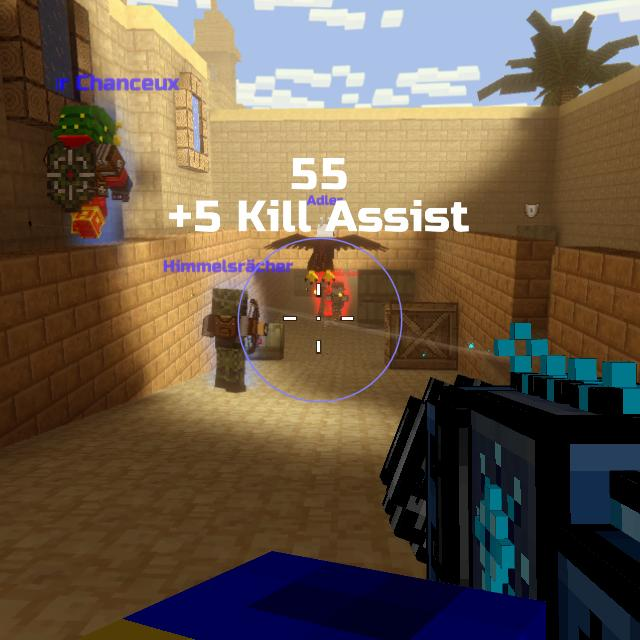Enemy: (326, 282, 349, 320), (314, 281, 331, 316)
